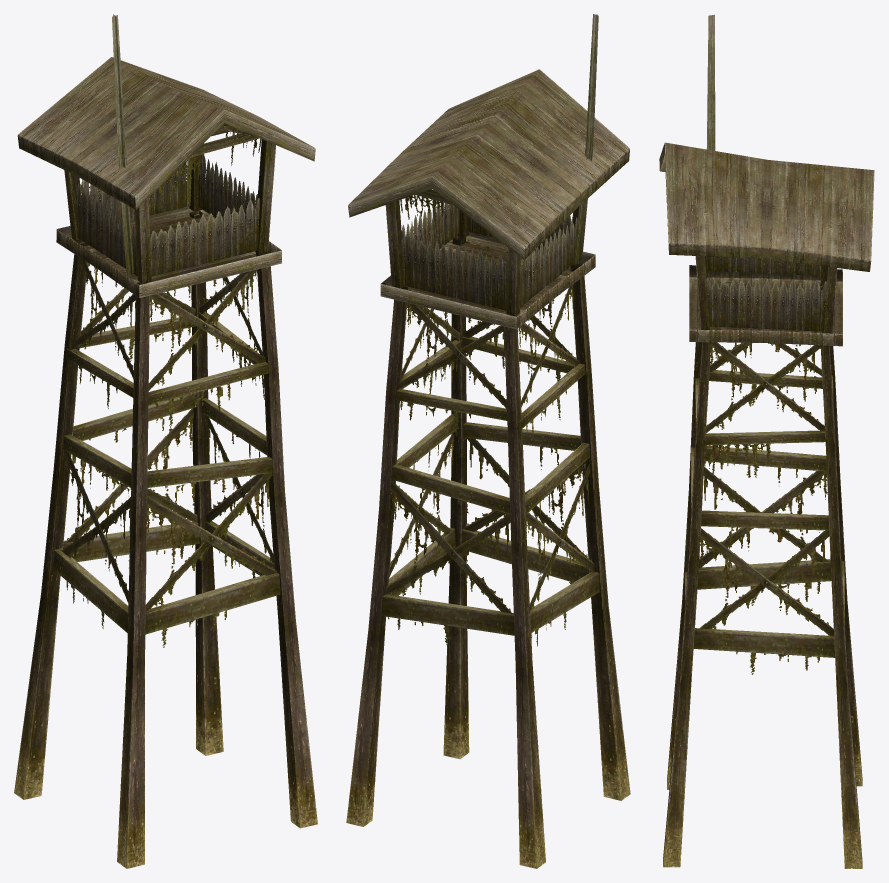
The model's file is OZ_09_mi_wtower01A.glb.
3 views of the same model, side by side, from view 1: azimuth 30°, elevation 25°; view 2: azimuth 150°, elevation 25°; view 3: azimuth 270°, elevation 25° (orthographic). The views are drawn at different scales.
Visible parts, largest first — view 1: OM_09_mi_wtower01A; view 2: OM_09_mi_wtower01A; view 3: OM_09_mi_wtower01A.
Part boxes in pixels (left/top/right/bottom): OM_09_mi_wtower01A: left=14, top=14, right=317, bottom=868; OM_09_mi_wtower01A: left=346, top=14, right=630, bottom=868; OM_09_mi_wtower01A: left=659, top=14, right=874, bottom=868.
Bounding box in the file's own units: 5.2 × 20.69 × 5.22.
2 materials, 2 textured.
